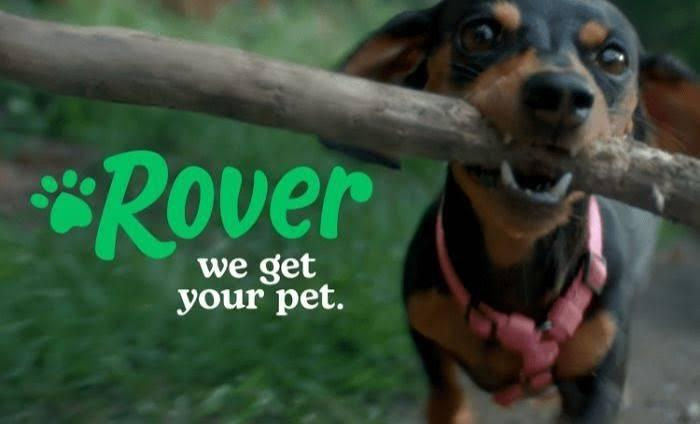adult_dog: (328, 1, 700, 424)
